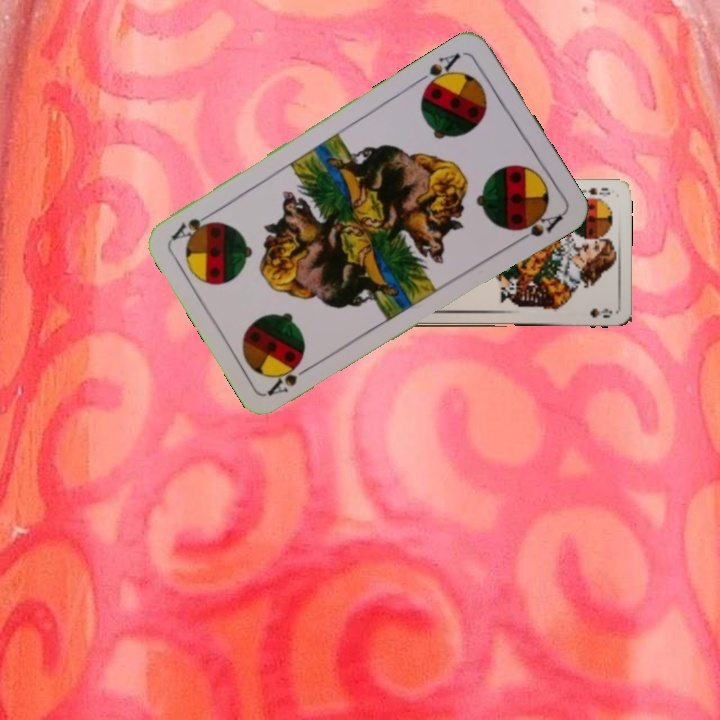SA: (413, 49, 463, 95), (264, 358, 317, 398)
SO: (575, 183, 613, 197)
